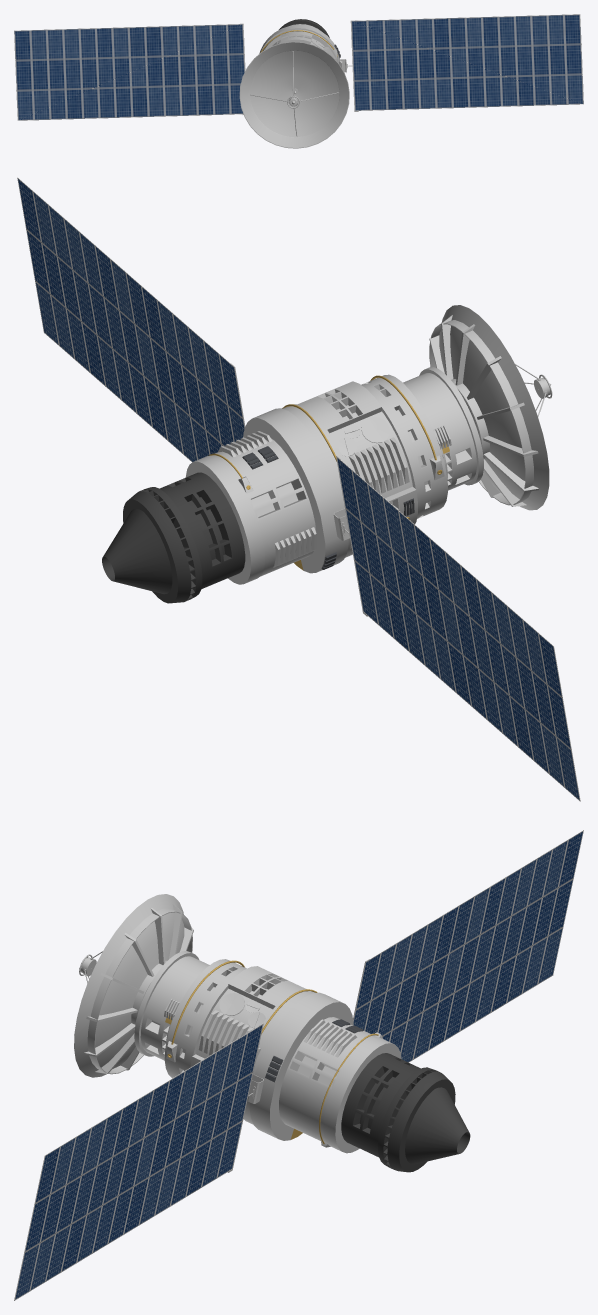
Rendered from sat.glb.
The picture shows the model from 3 angles, top to bottom: view 1: azimuth 30°, elevation 25°; view 2: azimuth 150°, elevation 25°; view 3: azimuth 270°, elevation 25°; orthographic projection. The views are drawn at different scales.
Parts seen in each view (by area): view 1: Solar Panels_28, Disc_22, Body_2; view 2: Solar Panels_28, Body_2, Disc_22, Disc.Back_23, Grill1_3, Grill3_16, Small Discs_6; view 3: Solar Panels_28, Body_2, Disc_22, Disc.Back_23, Grill1_3, Grill3_16, Small Discs_6.
Part boxes in pixels (x1=…): Solar Panels_28: x1=14, y1=14, x2=583, y2=120; Disc_22: x1=239, y1=41, x2=349, y2=148; Body_2: x1=259, y1=19, x2=339, y2=63; Solar Panels_28: x1=17, y1=177, x2=580, y2=801; Body_2: x1=102, y1=367, x2=483, y2=603; Disc_22: x1=429, y1=305, x2=549, y2=510; Disc.Back_23: x1=429, y1=315, x2=538, y2=506; Grill1_3: x1=348, y1=437, x2=409, y2=493; Grill3_16: x1=218, y1=431, x2=316, y2=567; Small Discs_6: x1=337, y1=416, x2=389, y2=456; Solar Panels_28: x1=14, y1=830, x2=583, y2=1300; Body_2: x1=134, y1=951, x2=470, y2=1172; Disc_22: x1=74, y1=894, x2=192, y2=1077; Disc.Back_23: x1=84, y1=904, x2=193, y2=1073; Grill1_3: x1=198, y1=1010, x2=254, y2=1055; Grill3_16: x1=304, y1=1019, x2=357, y2=1057; Small Discs_6: x1=219, y1=993, x2=265, y2=1028.
Size of the model in its own units: 13.08 by 3.6 by 8.46.
5 materials, 1 textured.
